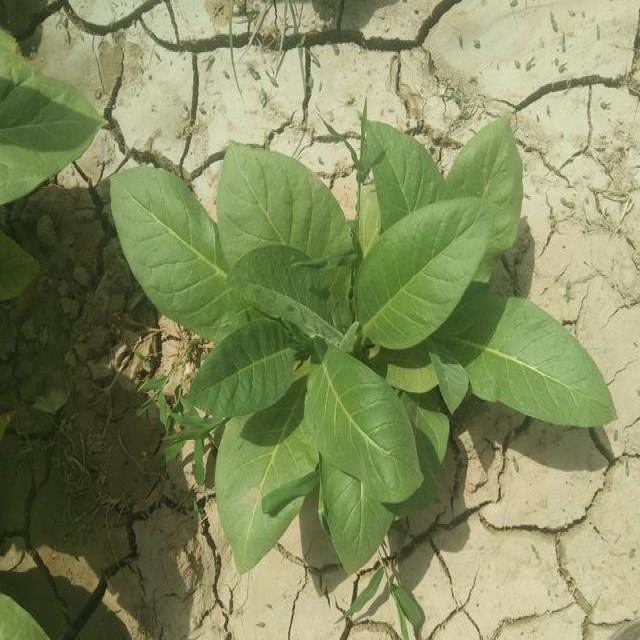crop: (113, 160, 611, 557), (0, 27, 99, 209)
